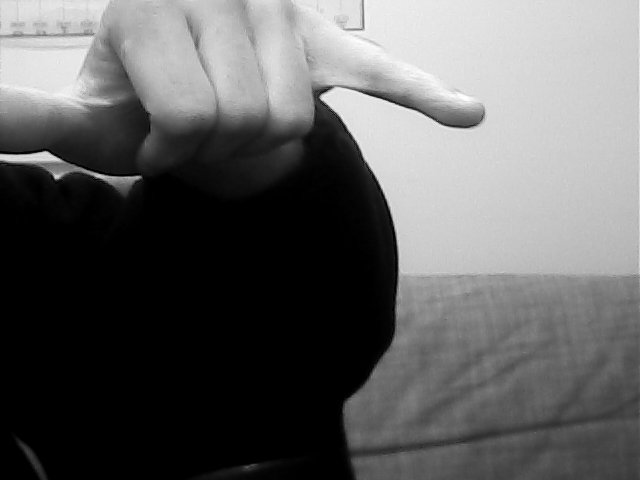aloha: (1, 1, 489, 177)
